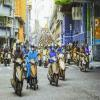motorcycles: (47, 54, 60, 84), (12, 60, 24, 92), (28, 54, 38, 86), (57, 48, 66, 81), (78, 50, 88, 72)
